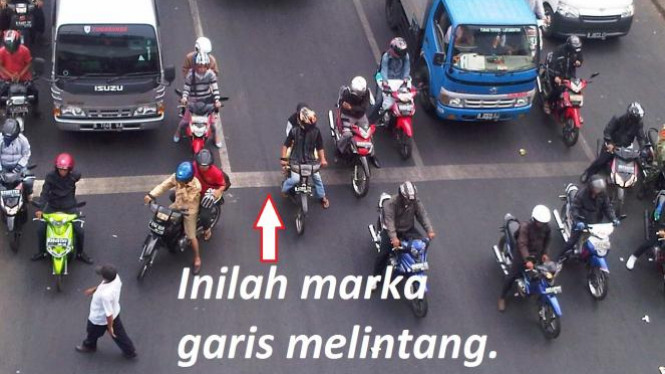car: (388, 1, 536, 132), (50, 1, 164, 138)
motorbike: (138, 153, 238, 286), (493, 204, 564, 337), (364, 178, 430, 318), (551, 174, 609, 302), (40, 153, 91, 292), (275, 106, 327, 241), (596, 102, 645, 230), (172, 42, 225, 160), (372, 36, 419, 164), (329, 80, 375, 201), (537, 32, 581, 148), (1, 119, 32, 262), (1, 31, 29, 142)
